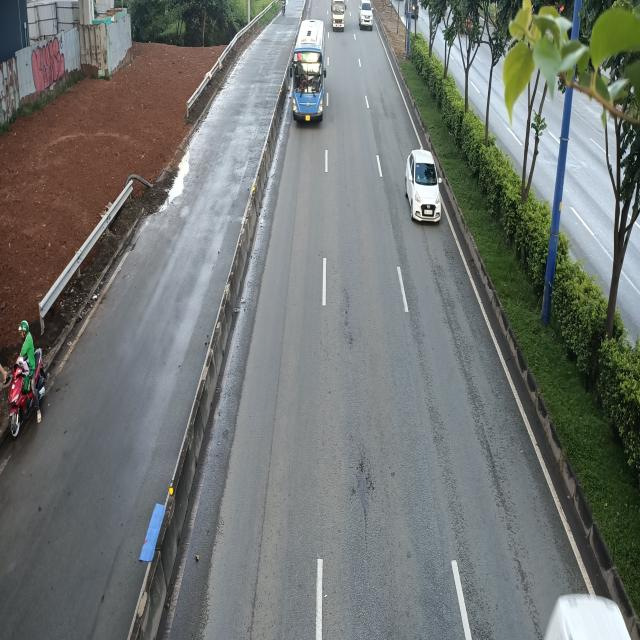car: (406, 151, 444, 225), (357, 2, 373, 31)
coach: (286, 16, 326, 120)
truck: (331, 0, 346, 30)
